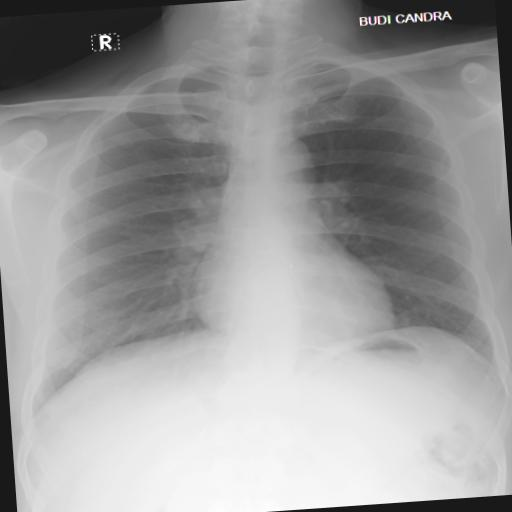normal: (2, 19, 512, 441)
